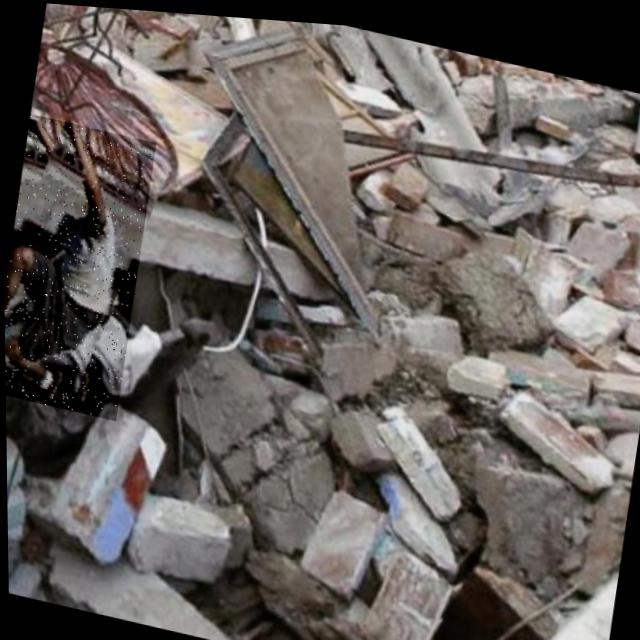Person in Rubble: (1, 112, 159, 422)
